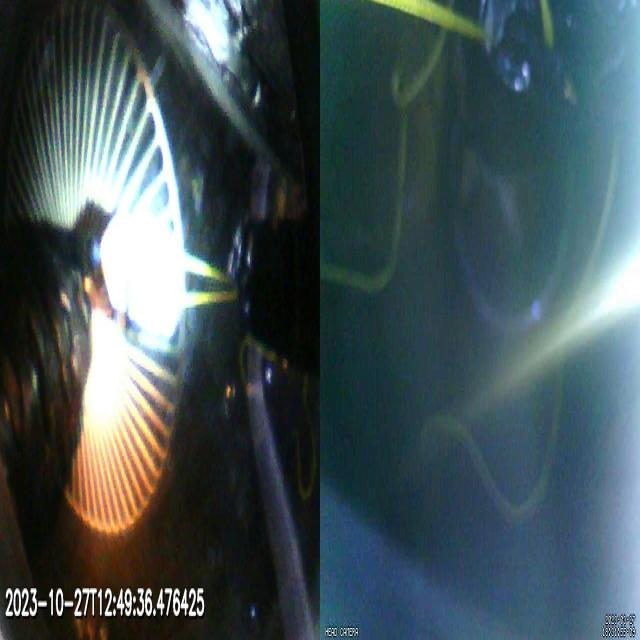head: (105, 206, 183, 337)
